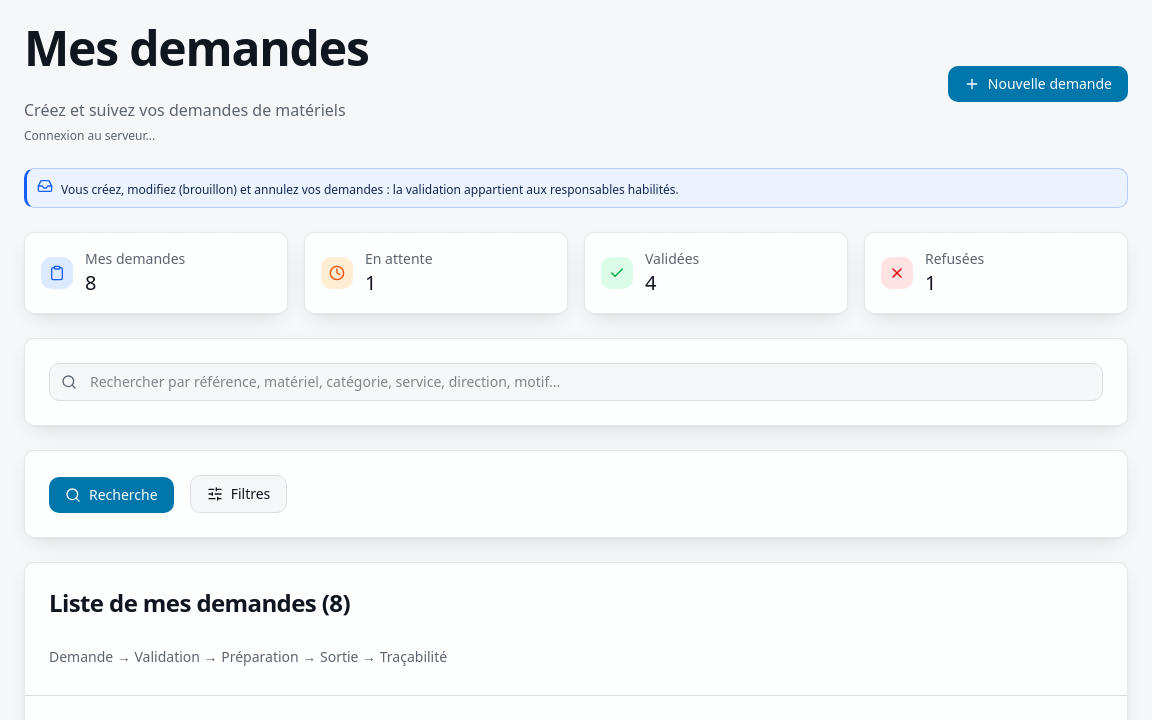
Scenario: MyRequests — écriture d'une demande conforme à l'étape 1 › affiche l'erreur du serveur et ne claim pas la réussite
Click the button "Nouvelle demande" at point(1038, 84), box [948,66,1128,102]
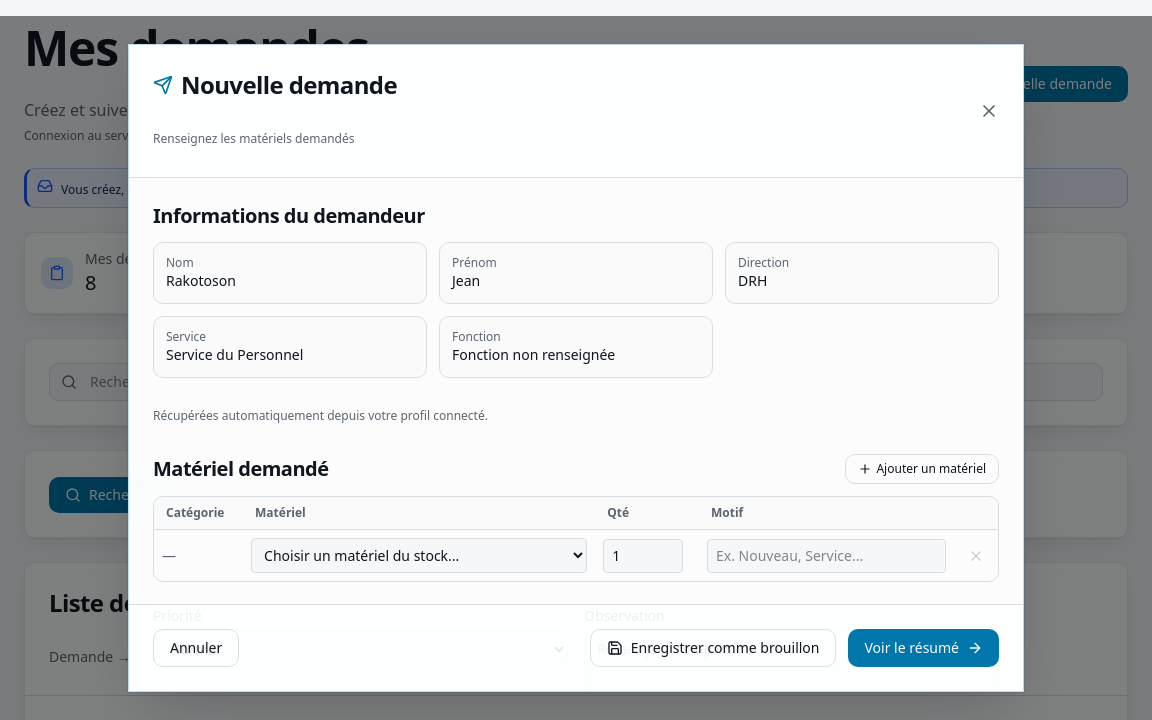
Select "Webcam HD (Informatique) — stock 2" in the dropdown named "Matériel de la ligne 1" at point(419, 556), box [251,538,587,573]
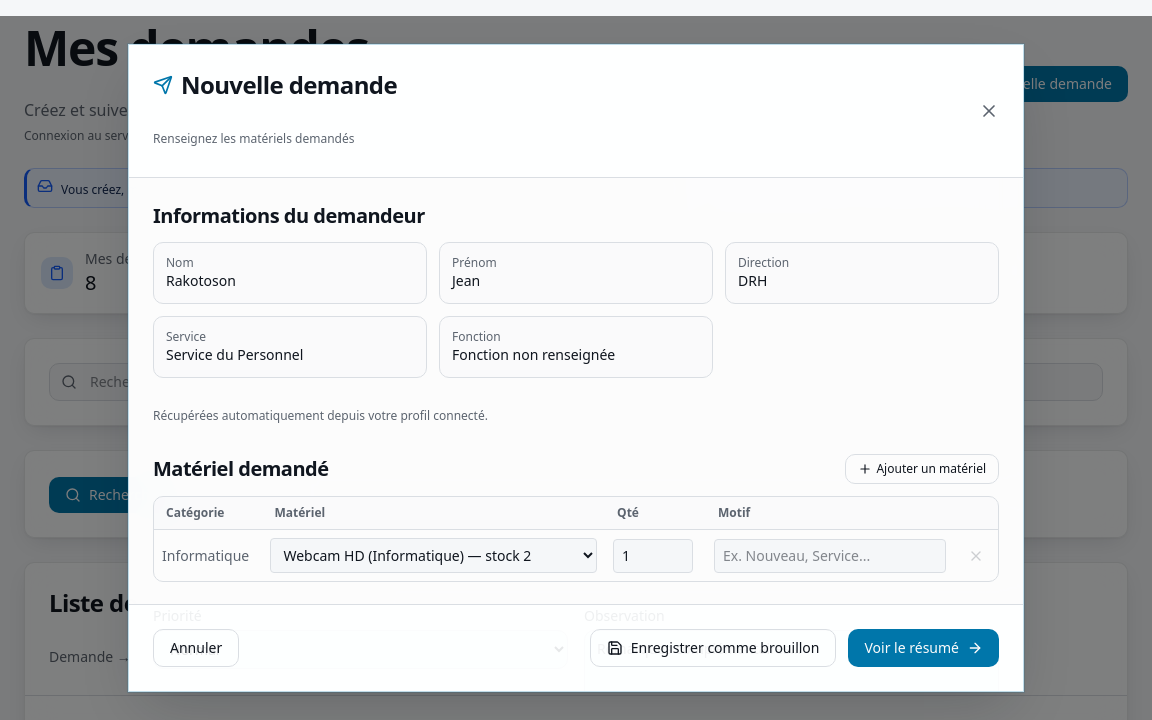
Replace the text in the number field named "Quantité de la ligne 1" with "9" at point(653, 556), box [613,538,693,572]
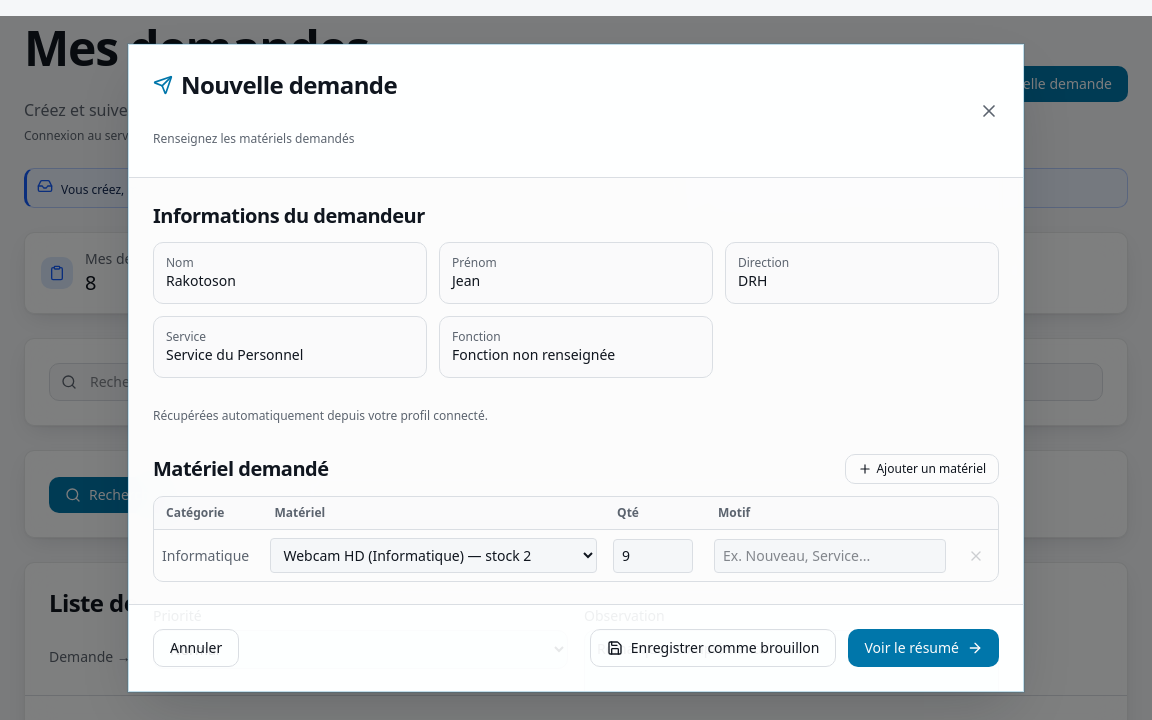
Type "Test" into the field with placeholder "Ex. Nouveau, Service..." at point(830, 556), box [714,538,946,572]
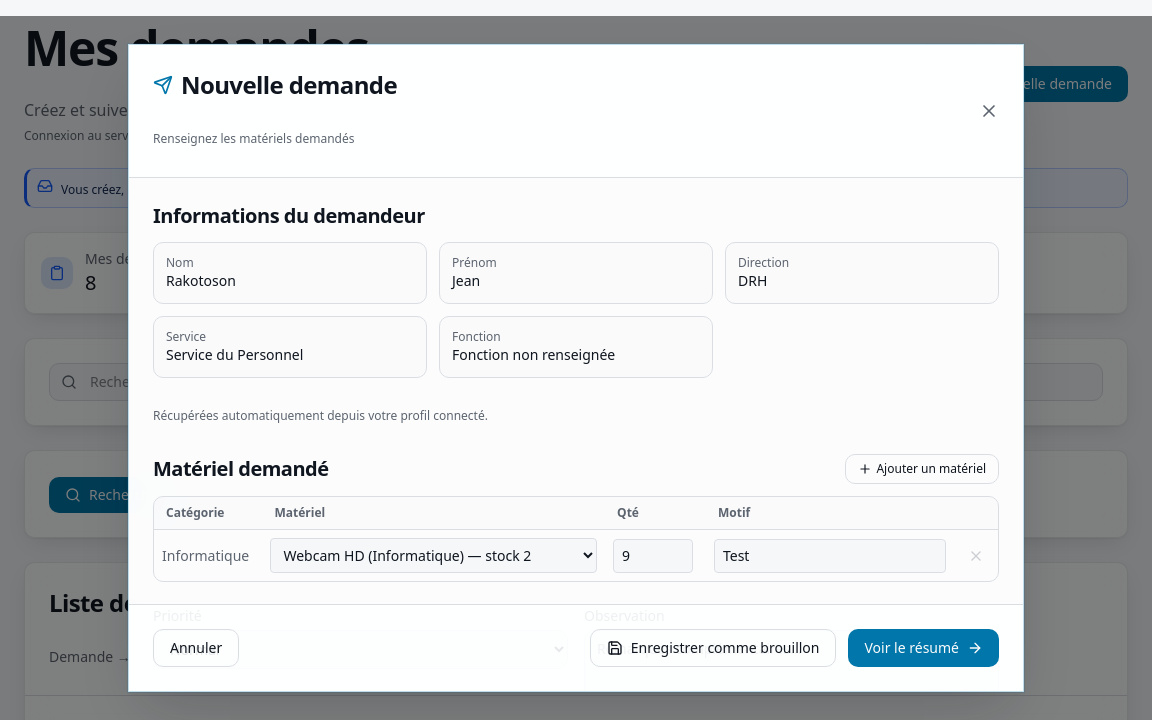
Click the button "Voir le résumé" at point(924, 648), box [848,629,999,667]
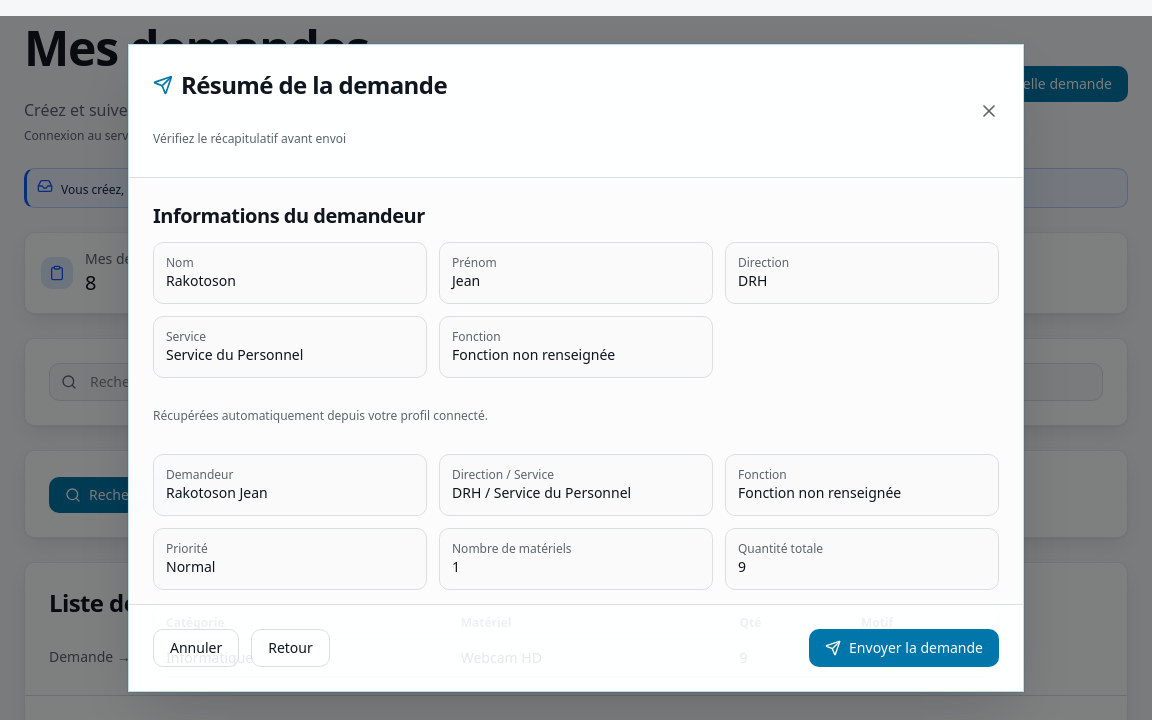
Click the button "Envoyer la demande" at point(904, 648), box [809,629,999,667]
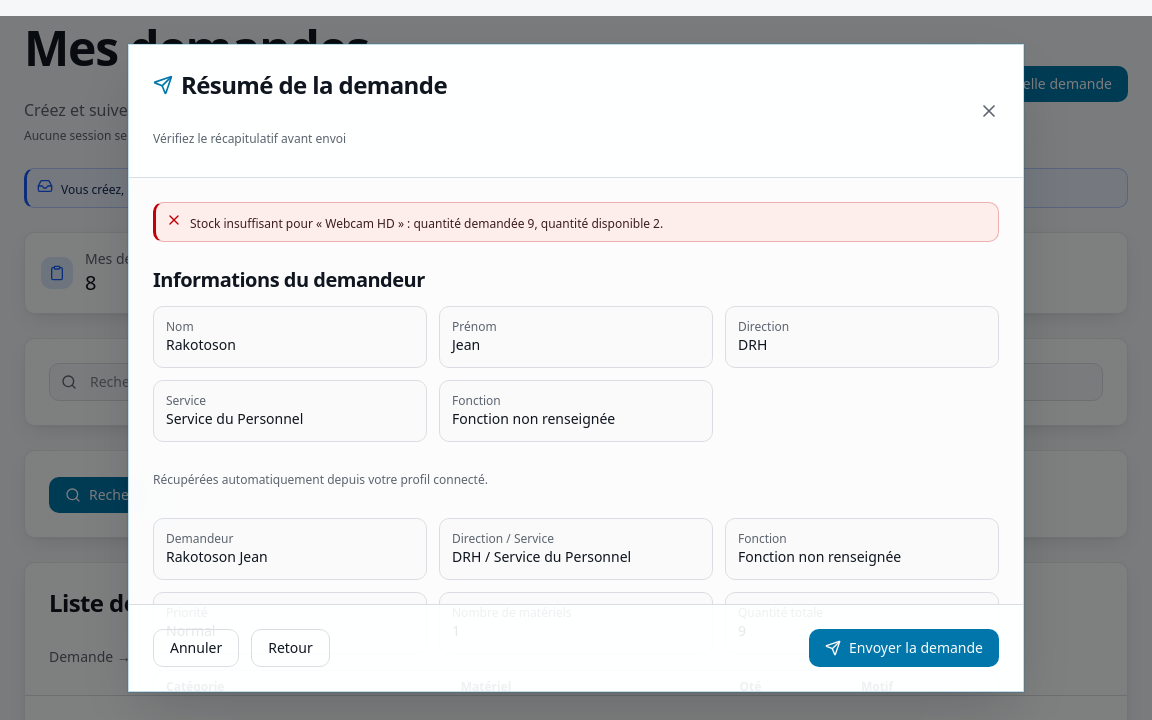
Expected: the text "Stock insuffisant pour" is shown, [190,215,663,232]
